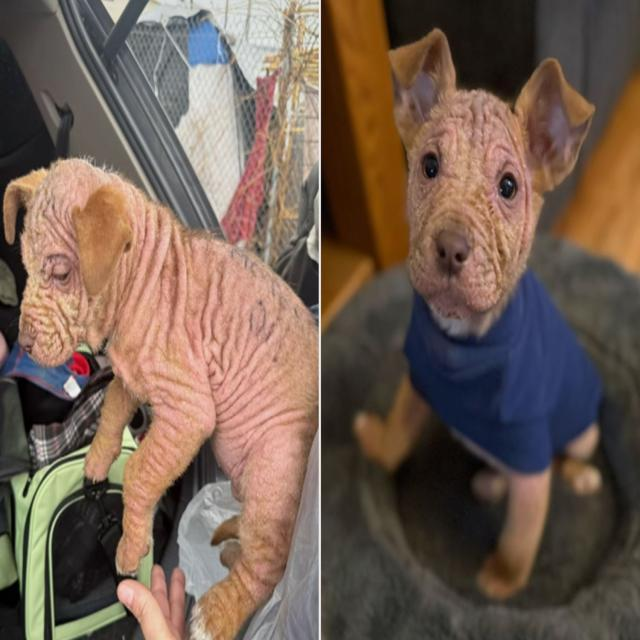mange: (129, 222, 213, 360), (218, 248, 292, 388), (214, 352, 281, 466), (156, 331, 214, 432), (464, 106, 502, 156), (53, 188, 84, 248)
